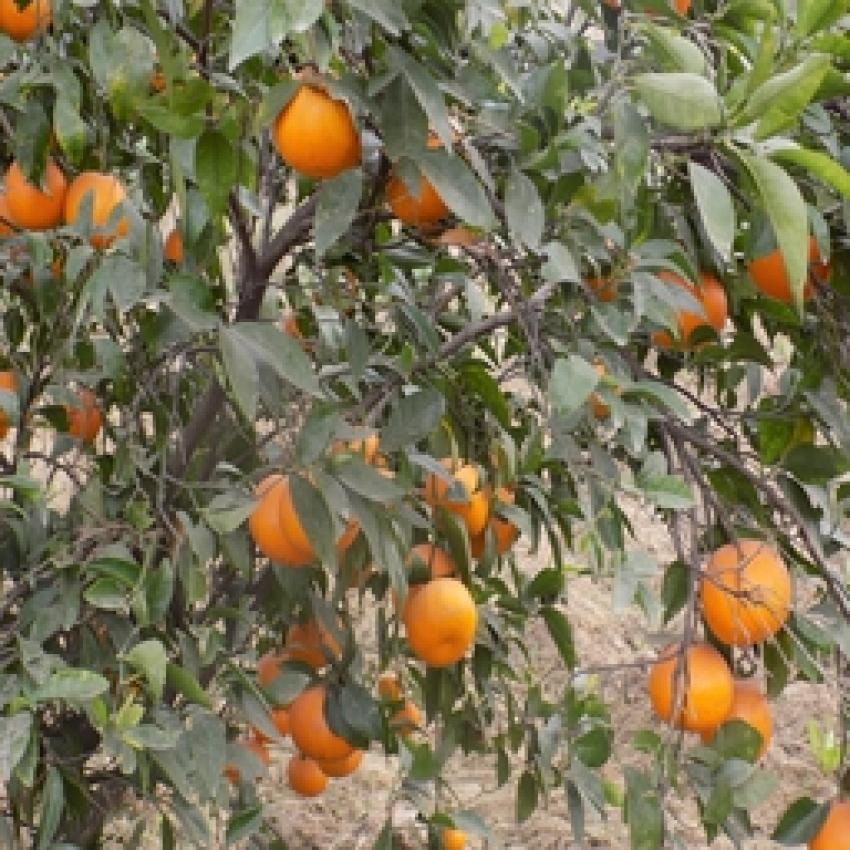Buen estado: (263, 67, 370, 188), (740, 186, 840, 311), (700, 531, 800, 655), (246, 464, 349, 578), (382, 141, 484, 254), (650, 641, 741, 752), (641, 252, 733, 360), (406, 579, 490, 678), (692, 683, 778, 773), (422, 453, 507, 540), (317, 418, 404, 500), (64, 161, 134, 253), (290, 679, 364, 766), (2, 149, 71, 239), (282, 602, 360, 674), (61, 383, 105, 457), (0, 0, 62, 50), (803, 796, 850, 847), (0, 370, 27, 446)
